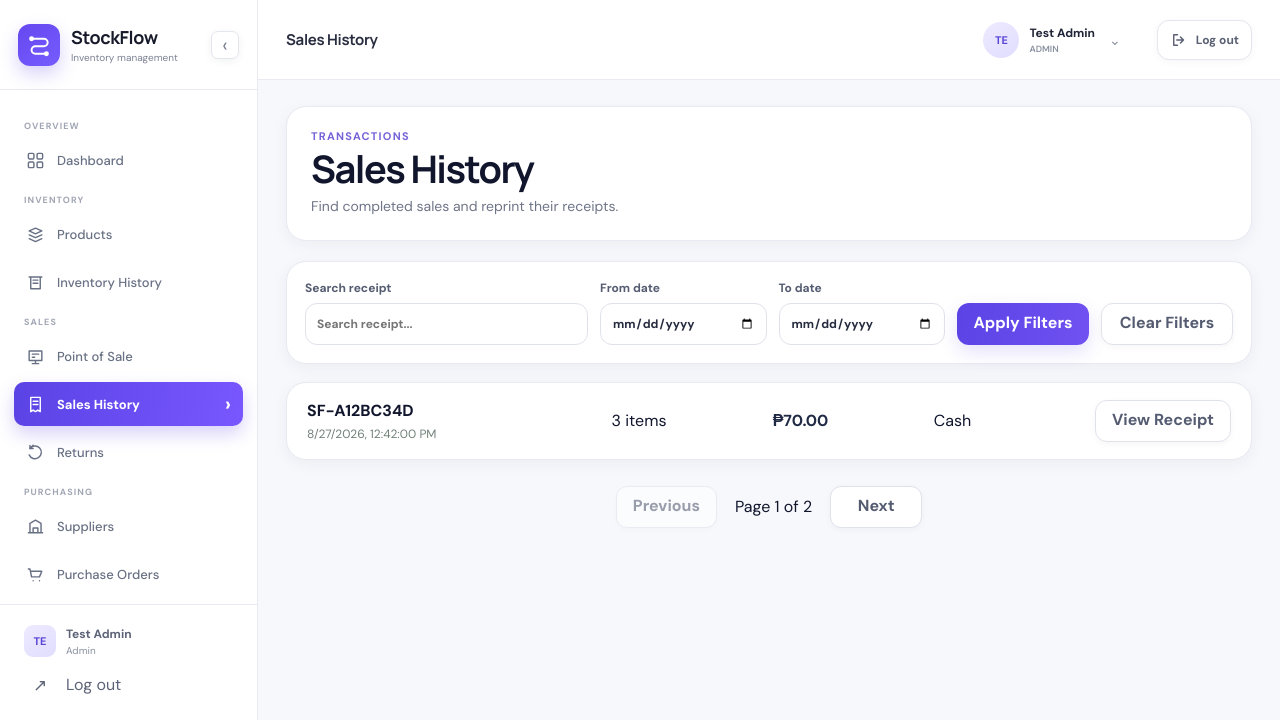
Test case: validates dates and paginates using the backend page
The width and height of the screenshot is (1280, 720).
Expected: the text "SF-A12BC34D" is shown, [307,400,414,421]
Click the button "Next": (876, 507) [830,486,922,528]
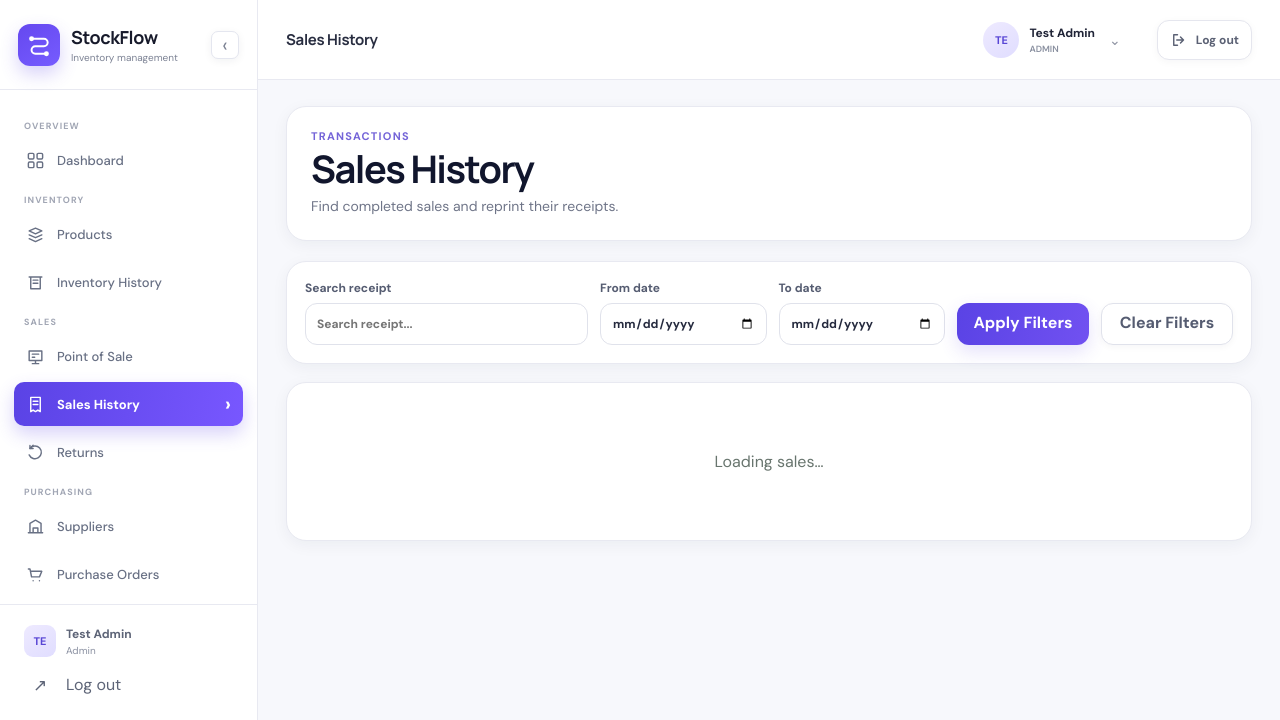
In the date field labelled "From date": (683, 324) [600,303,766,345], type "2026-08-28"
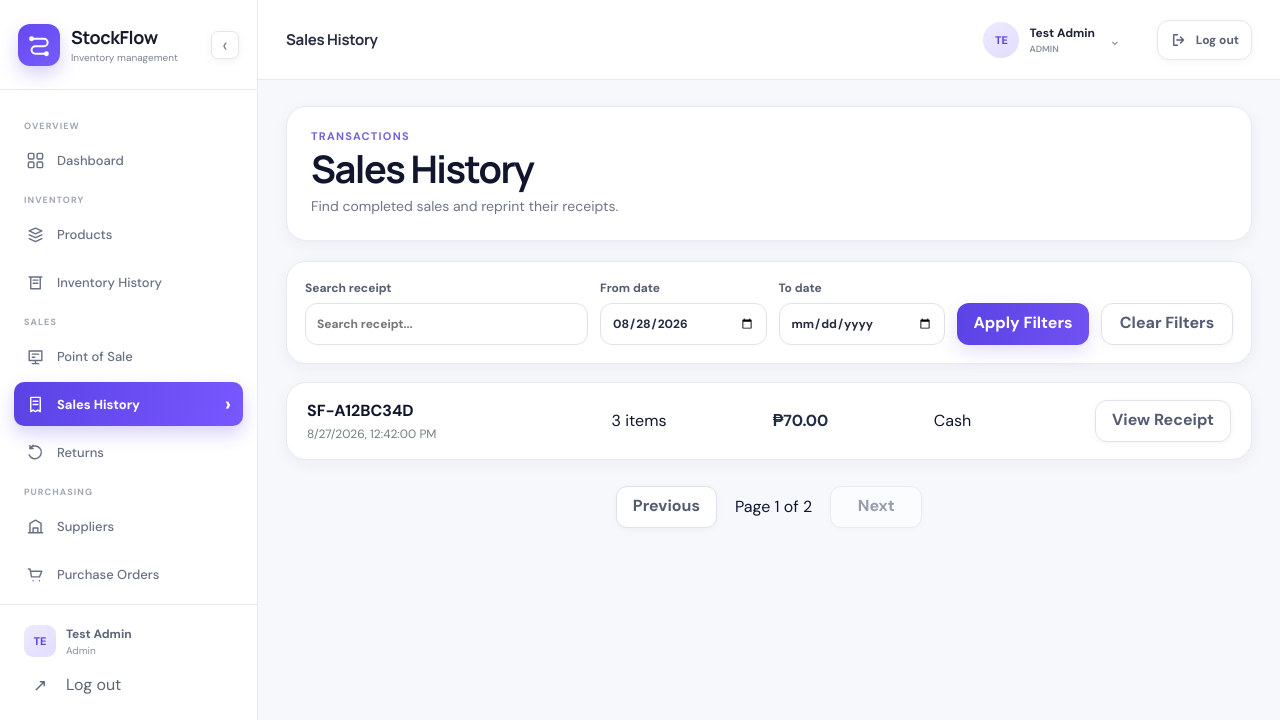
In the date field labelled "To date": (862, 324) [778,303,945,345], type "2026-08-01"
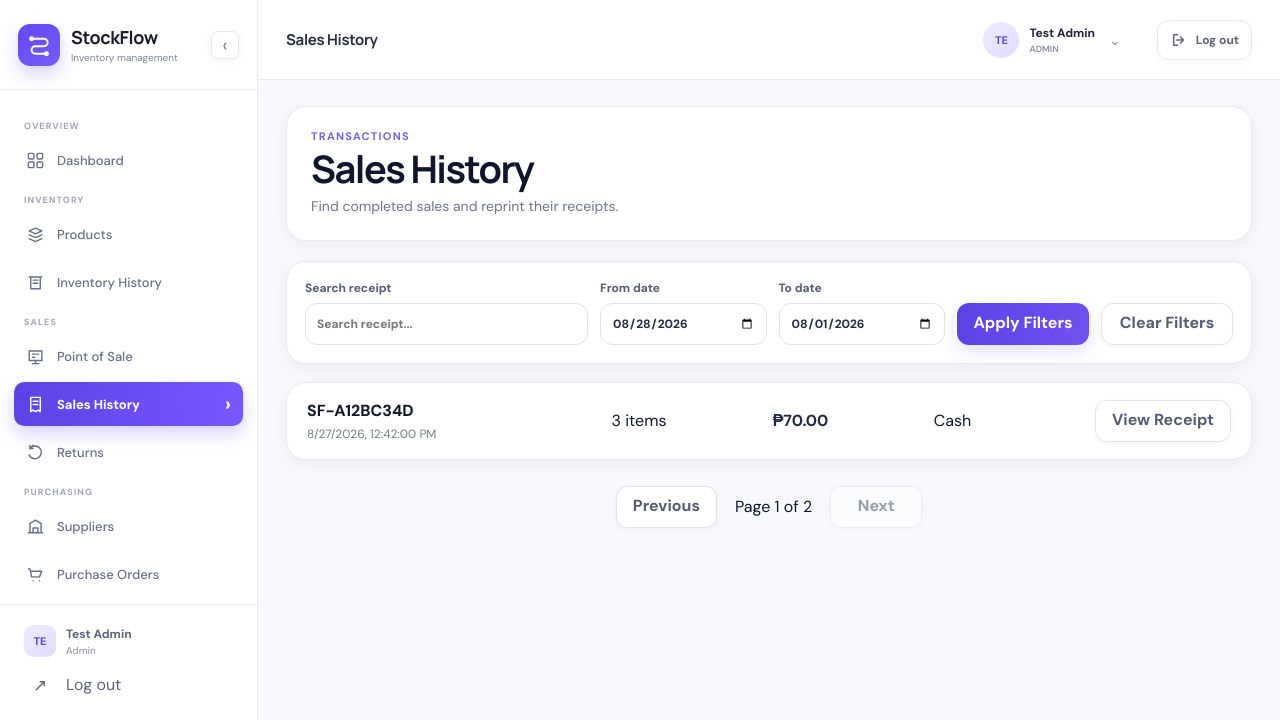
Click the button "Apply Filters": (1023, 324) [957,303,1089,345]
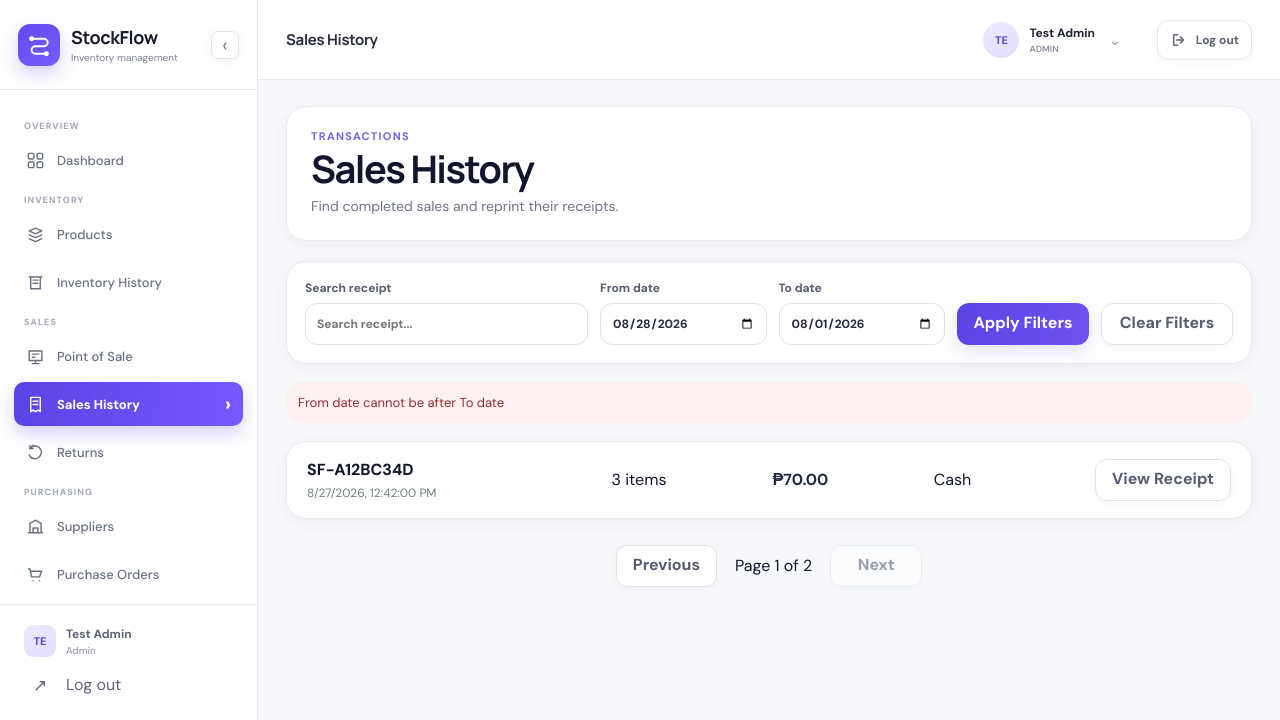
Expected: the message reads "From date cannot be after To date", [298,394,504,411]
